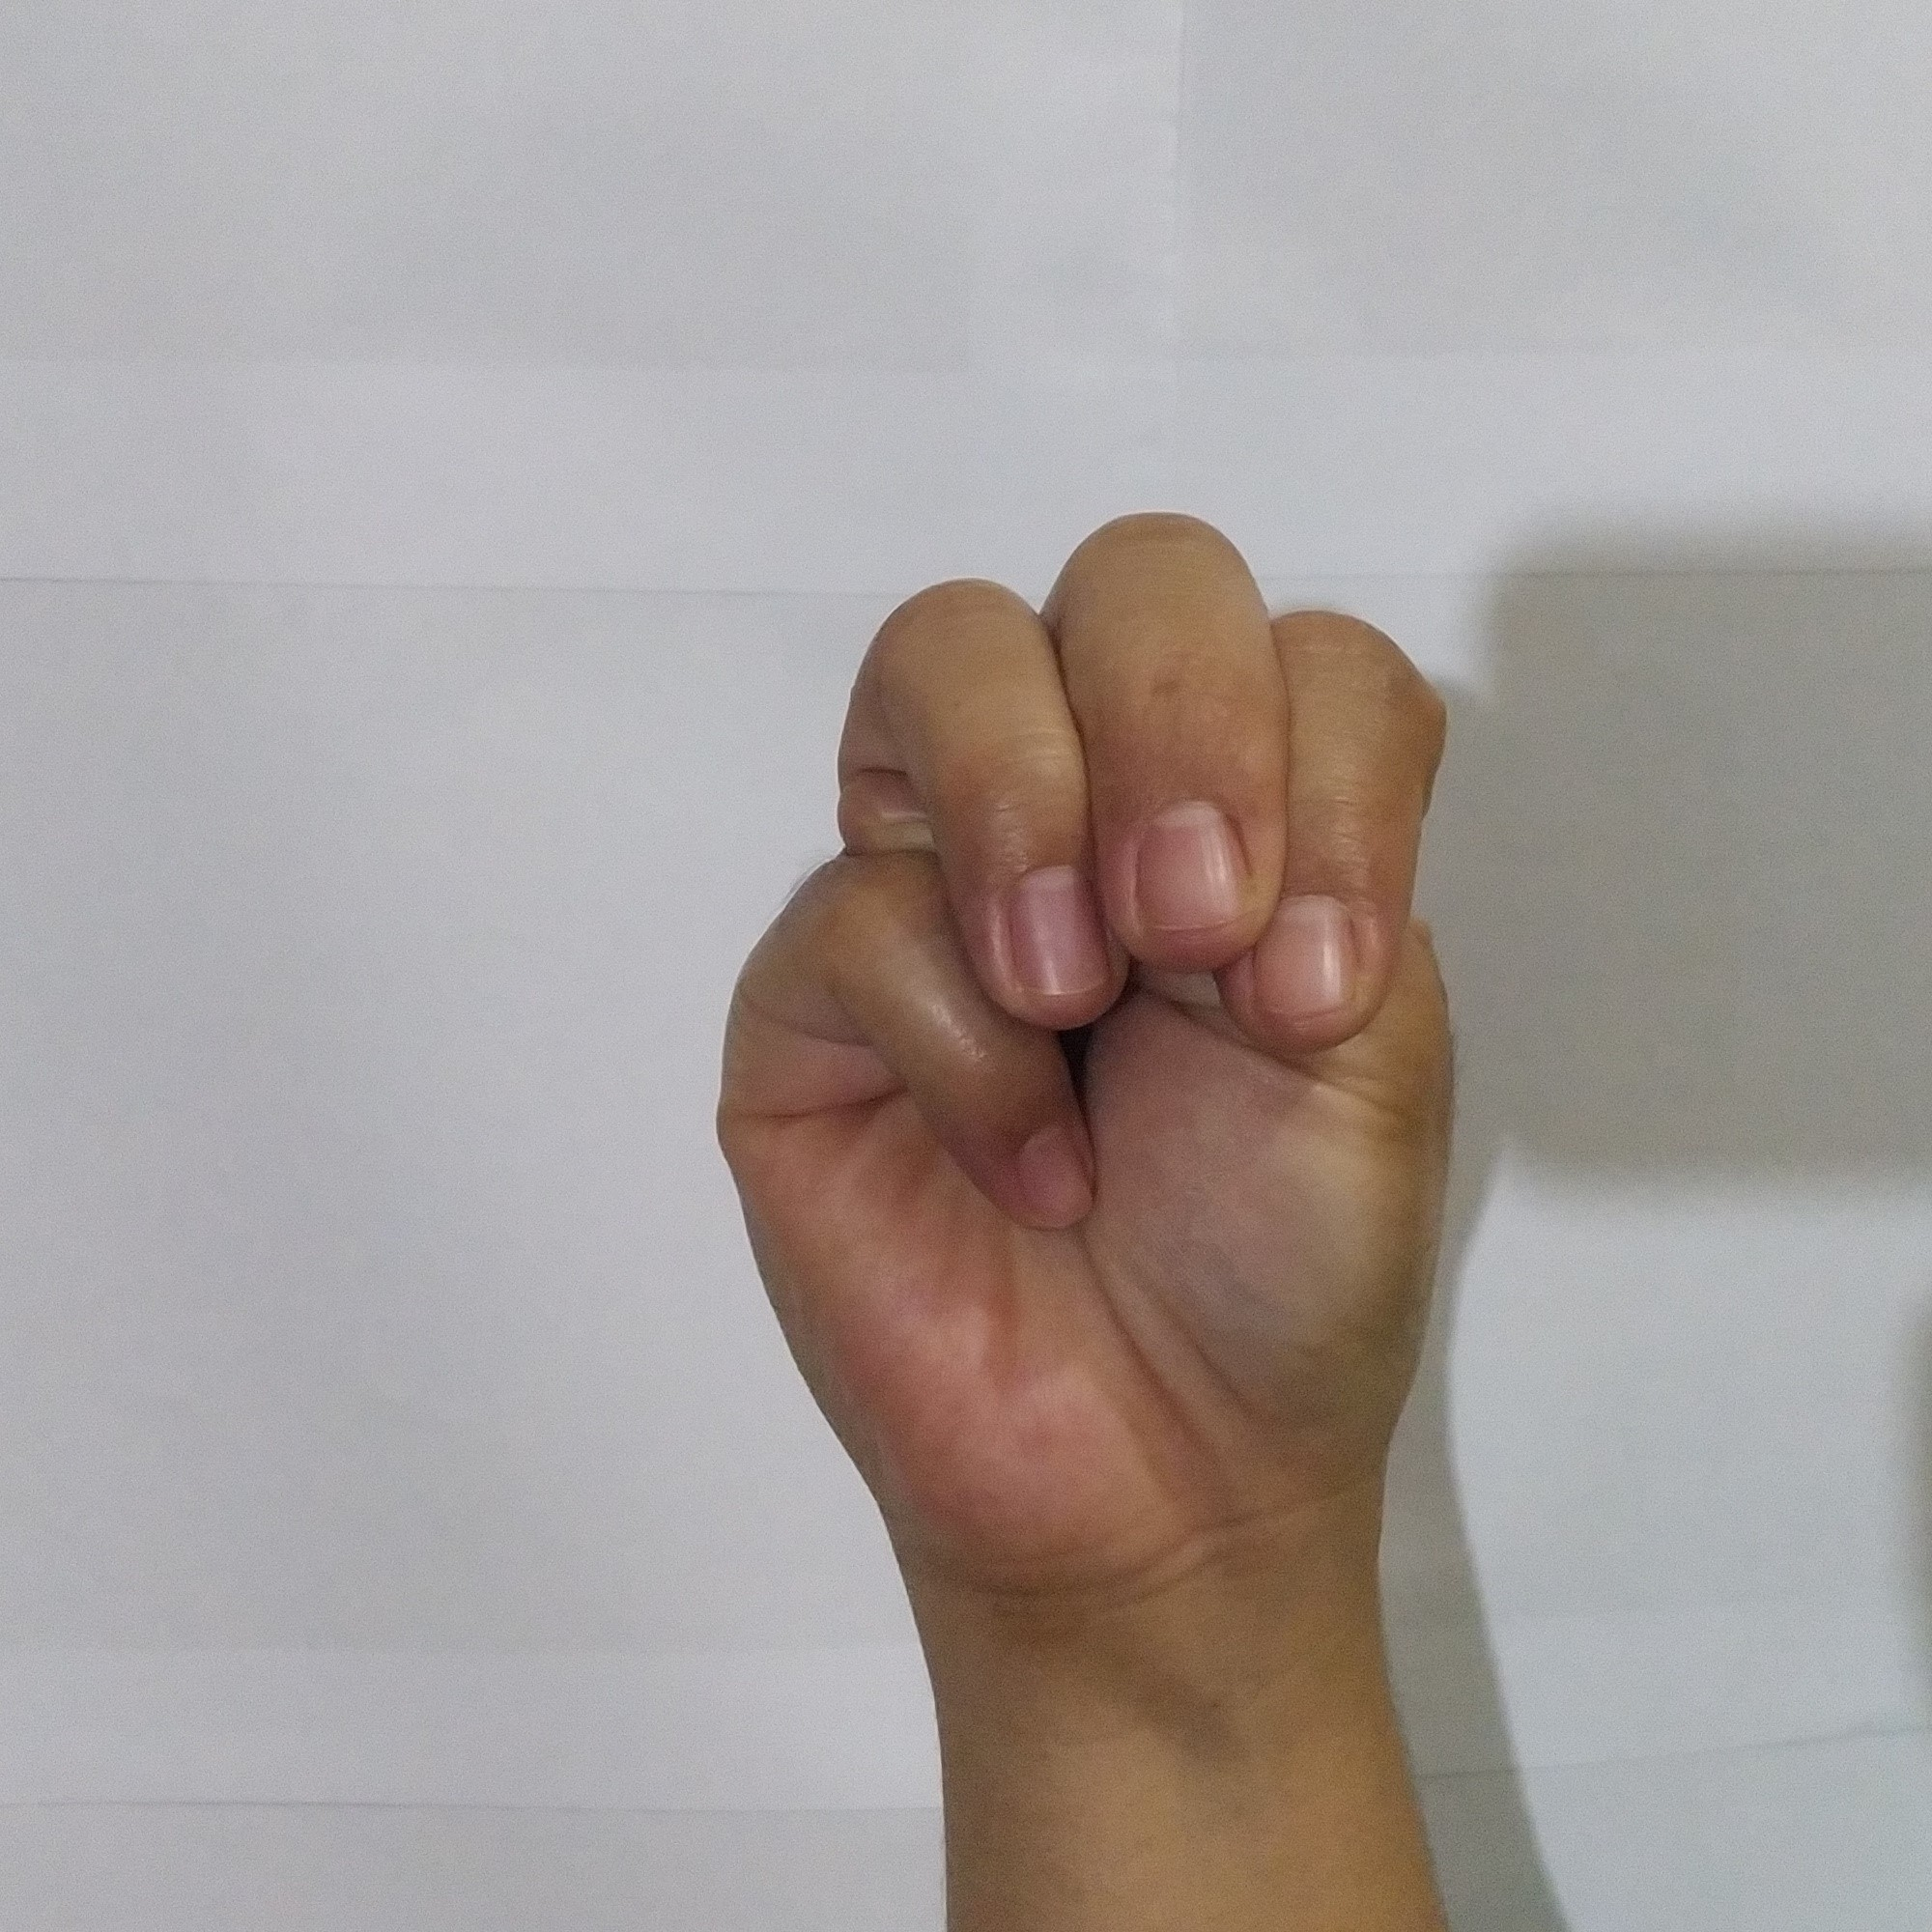M: (692, 495, 1484, 1534)
